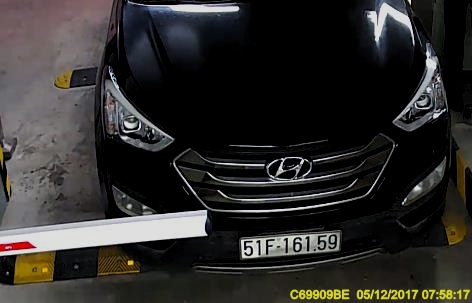plate: (239, 225, 341, 260)
